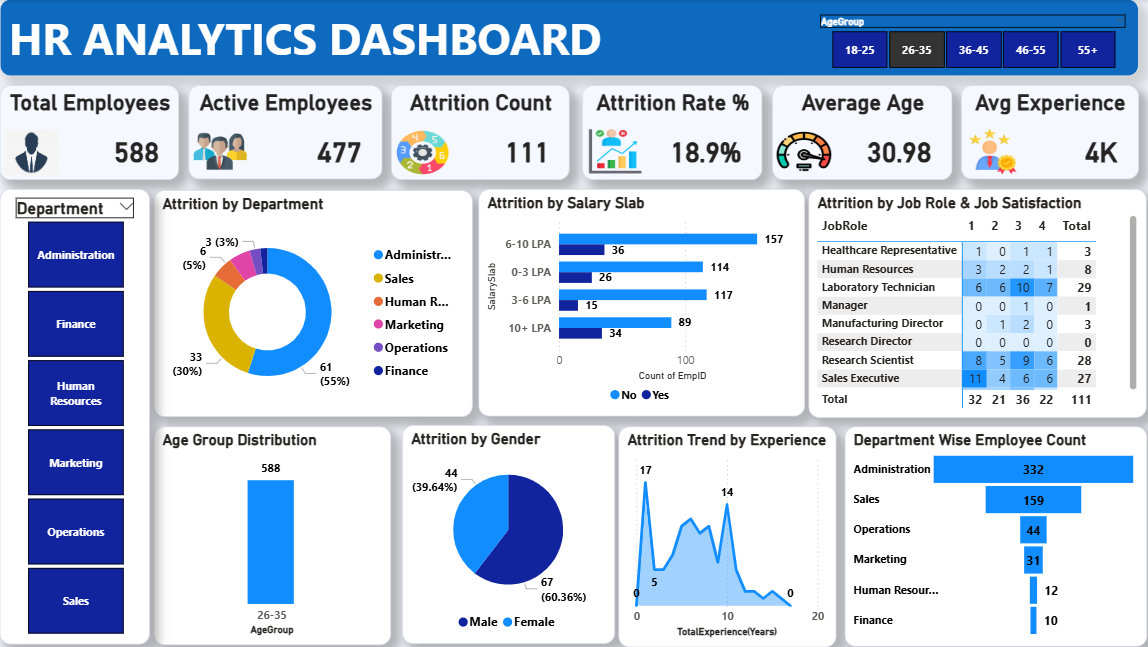

What the dashboard file says about the page in this screenshot:
{"tool":"powerbi","page":{"name":"Page 1","canvas":[1280,720],"ordinal":0},"visuals":[{"type":"textbox","box":[10,0,1250,85],"z":0},{"type":"cardVisual","title":"Total Employees","fields":{"Data":["CountNonNull(HR_Analytics-4.EmpID)"]},"box":[10,95,197,104],"z":1000},{"type":"cardVisual","title":"Active Employees","fields":{"Data":["CountNonNull(HR_Analytics-4.EmployeeCount)"]},"box":[216.8,94.7,212.7,102.9],"z":2000},{"type":"cardVisual","title":"Attrition Count","fields":{"Data":["Sum(HR_Analytics-4.AttritionCount)"]},"box":[439.1,94.7,196.2,104.3],"z":3000},{"type":"cardVisual","title":"Attrition Rate %","fields":{"Data":["HR_Analytics-4.Attition Rate %"]},"box":[649.1,94.7,197.6,104.3],"z":4000},{"type":"cardVisual","title":"Average Age","fields":{"Data":["Avg(HR_Analytics-4.Age)"]},"box":[857.6,94.7,197.6,104.3],"z":5000},{"type":"cardVisual","title":"Avg Experience","fields":{"Data":["Sum(HR_Analytics-4.YearsatCompany)"]},"box":[1064.8,94.7,194.9,102.9],"z":6000},{"type":"image","box":[857.6,137.2,70,60.4],"z":7000},{"type":"image","box":[9.6,138.6,70,60.4],"z":8000},{"type":"donutChart","title":"Attrition by Department","fields":{"Category":["HR_Analytics-4.Department"],"Y":["Sum(HR_Analytics-4.AttritionCount)"]},"box":[179,210,350,249],"z":9000},{"type":"clusteredBarChart","title":"Attrition by Salary Slab","fields":{"Category":["HR_Analytics-4.SalarySlab"],"Y":["CountNonNull(HR_Analytics-4.EmpID)"],"Series":["HR_Analytics-4.Attrition"]},"box":[535.2,208.6,358.1,249.7],"z":10000},{"type":"pivotTable","title":"Attrition by Job Role & Job Satisfaction","fields":{"Rows":["HR_Analytics-4.JobRole"],"Values":["Sum(HR_Analytics-4.AttritionCount)"],"Columns":["HR_Analytics-4.JobSatisfaction"]},"box":[898,209,371,251],"z":11000},{"type":"columnChart","title":"Age Group Distribution","fields":{"Category":["HR_Analytics-4.AgeGroup"],"Y":["Sum(HR_Analytics-4.EmployeeCount)"]},"box":[179,469,261,240],"z":12000},{"type":"pieChart","title":"Attrition by Gender","fields":{"Category":["HR_Analytics-4.Gender"],"Y":["Sum(HR_Analytics-4.AttritionCount)"]},"box":[451.5,467.9,233.3,240.1],"z":13000},{"type":"areaChart","title":"Attrition Trend by Experience","fields":{"Category":["HR_Analytics-4.TotalExperience(Years)"],"Y":["Sum(HR_Analytics-4.AttritionCount)"]},"box":[689,469,239,242],"z":14000},{"type":"funnel","title":"Department Wise Employee Count","fields":{"Category":["HR_Analytics-4.Department"],"Y":["CountNonNull(HR_Analytics-4.EmpID)"]},"box":[937.2,469.3,332.1,241.5],"z":15000},{"type":"slicer","fields":{"Values":["HR_Analytics-4.Department"]},"box":[9,209,165,500],"z":16000},{"type":"slicer","fields":{"Values":["HR_Analytics-4.AgeGroup"]},"box":[898,12,361,70],"z":17000},{"type":"image","box":[216.8,137.2,70,60.4],"z":18000},{"type":"image","box":[439.1,138.6,70,60.4],"z":19000},{"type":"image","box":[650.4,137.2,70,60.4],"z":20000},{"type":"image","box":[1064.8,137.2,70,60.4],"z":21000}]}

Visuals, with their boxes in screenshot pixels (x1, y1, x2, y2), scaled from the page's 1280x720 canvas onto the 1148x647 screenshot:
textbox: 9 0 1130 76
"Total Employees" cardVisual: 9 85 186 179
"Active Employees" cardVisual: 194 85 385 178
"Attrition Count" cardVisual: 394 85 570 179
"Attrition Rate %" cardVisual: 582 85 759 179
"Average Age" cardVisual: 769 85 946 179
"Avg Experience" cardVisual: 955 85 1130 178
image: 769 123 832 178
image: 9 125 71 179
"Attrition by Department" donutChart: 161 189 474 412
"Attrition by Salary Slab" clusteredBarChart: 480 187 801 412
"Attrition by Job Role & Job Satisfaction" pivotTable: 805 188 1138 413
"Age Group Distribution" columnChart: 161 421 395 637
"Attrition by Gender" pieChart: 405 420 614 636
"Attrition Trend by Experience" areaChart: 618 421 832 639
"Department Wise Employee Count" funnel: 841 422 1138 639
slicer - HR_Analytics-4.Department: 8 188 156 637
slicer - HR_Analytics-4.AgeGroup: 805 11 1129 74
image: 194 123 257 178
image: 394 125 457 179
image: 583 123 646 178
image: 955 123 1018 178
